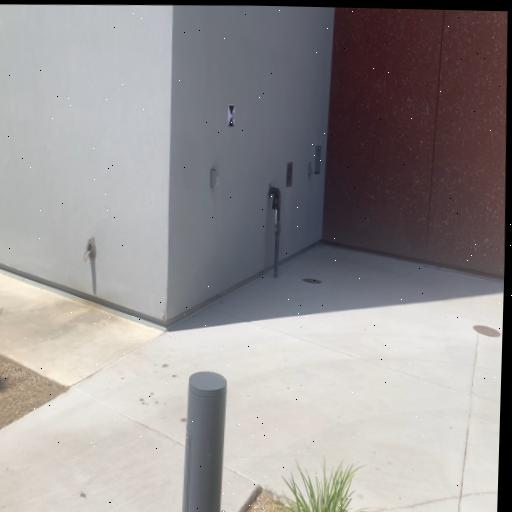target8: (228, 105, 235, 128)
